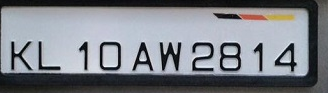0: (97, 41, 125, 71)
1: (77, 38, 93, 71), (252, 42, 268, 72)
4: (274, 40, 302, 73)
8: (219, 40, 242, 72)
A: (131, 41, 155, 72)
K: (9, 40, 35, 71)
L: (34, 40, 63, 71)
W: (155, 39, 184, 72), (191, 41, 217, 73)
